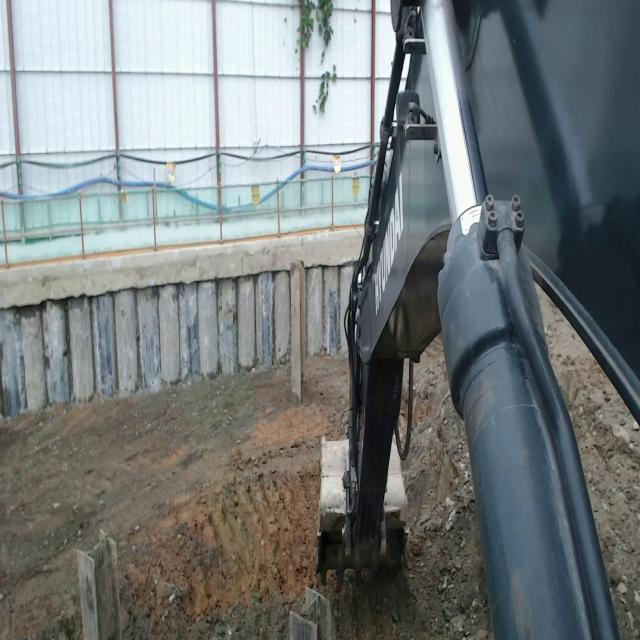cement: (0, 227, 362, 308)
red-sand: (0, 335, 494, 640), (539, 287, 640, 640)
